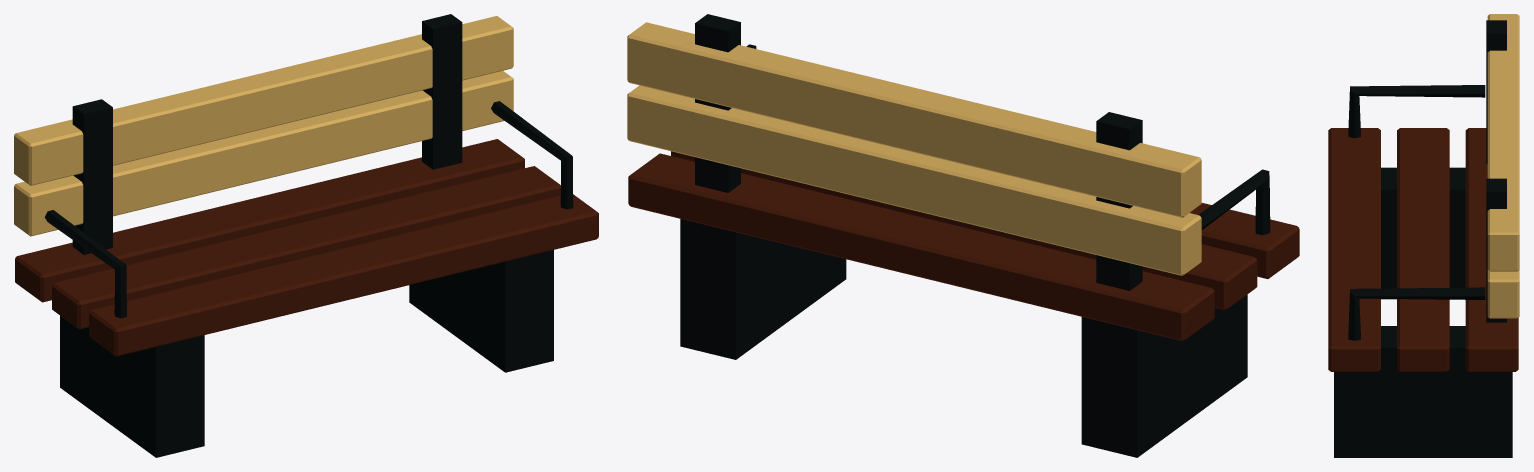
Rendered from street_bench.fbx.
3 renders of one model, left to right at view 1: azimuth 30°, elevation 25°; view 2: azimuth 150°, elevation 25°; view 3: azimuth 270°, elevation 25°, orthographic. The views are drawn at different scales.
Visible parts, largest first — view 1: Part_-1, Part_3, Part_0, Part_2, Part_1; view 2: Part_-1, Part_3, Part_2, Part_0, Part_1; view 3: Part_-1, Part_0, Part_3, Part_1, Part_2.
Boxes of the visible parts, x1=… form: Part_-1: x1=42, y1=139, x2=597, y2=457; Part_3: x1=14, y1=14, x2=513, y2=257; Part_0: x1=40, y1=104, x2=598, y2=356; Part_2: x1=15, y1=23, x2=504, y2=300; Part_1: x1=15, y1=101, x2=569, y2=301; Part_-1: x1=628, y1=96, x2=1267, y2=457; Part_3: x1=627, y1=14, x2=1201, y2=313; Part_2: x1=628, y1=25, x2=1214, y2=341; Part_0: x1=671, y1=44, x2=1299, y2=310; Part_1: x1=747, y1=45, x2=1266, y2=326; Part_-1: x1=1334, y1=128, x2=1518, y2=457; Part_0: x1=1328, y1=85, x2=1483, y2=371; Part_3: x1=1486, y1=14, x2=1519, y2=369; Part_1: x1=1353, y1=85, x2=1514, y2=371; Part_2: x1=1469, y1=34, x2=1518, y2=371.
Bounding box in the file's own units: 3.7 × 2.05 × 1.36.
